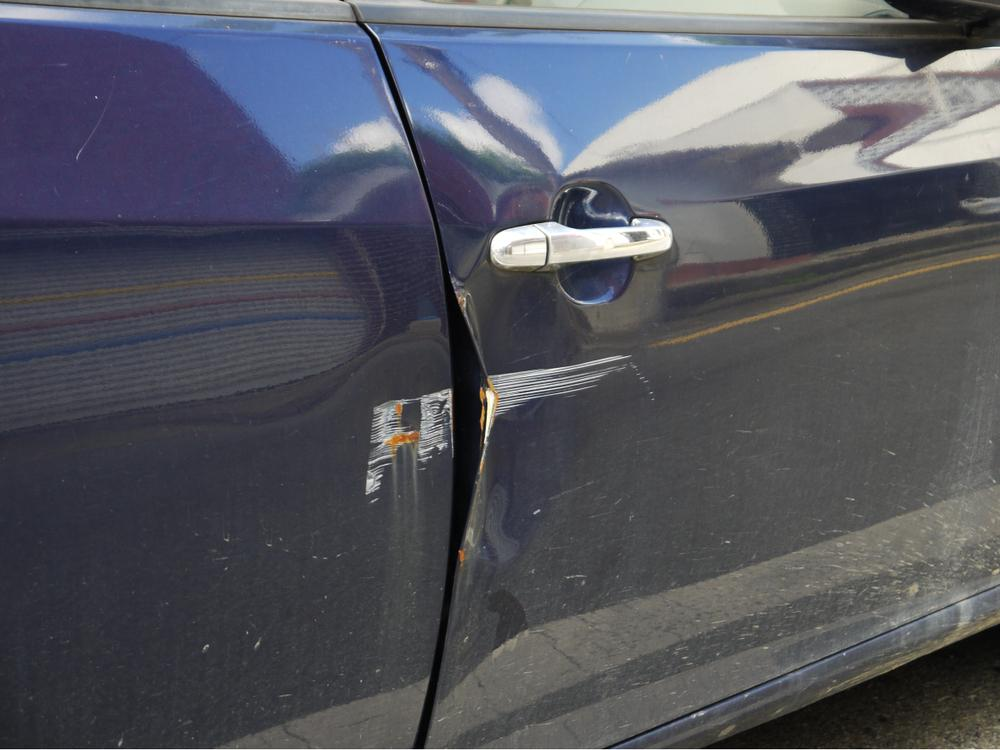dent: (420, 127, 574, 560)
scratch: (363, 386, 457, 511), (560, 352, 662, 402)
